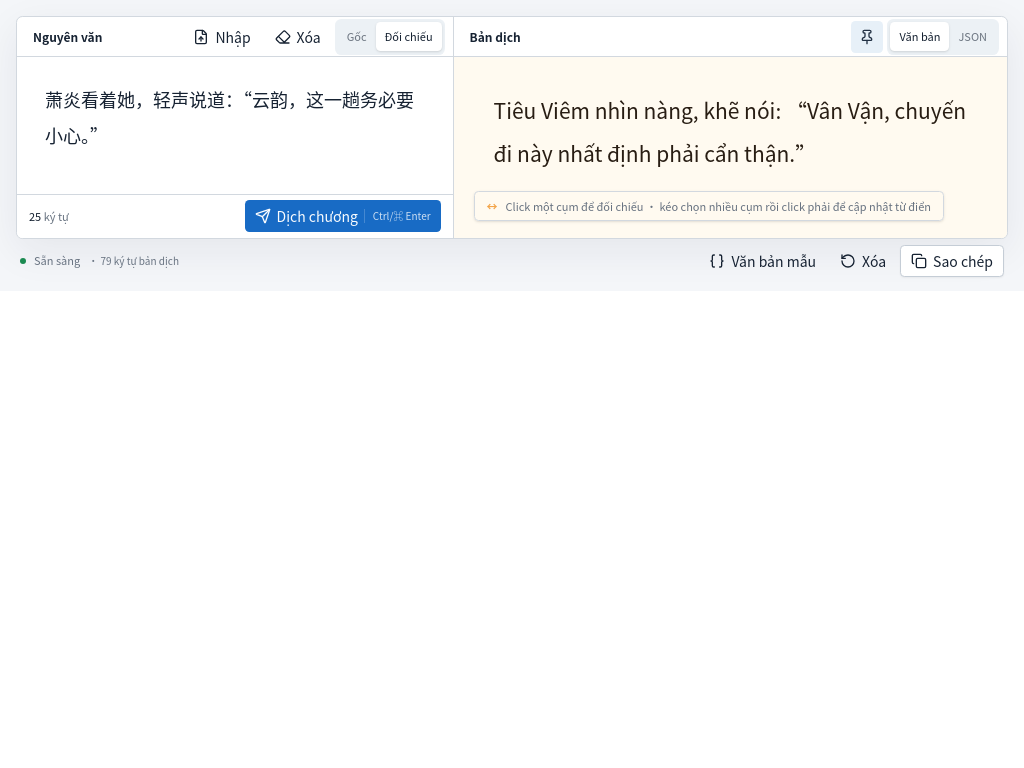
Test: translation range pin › extends the clicked range with Shift and an arrow key
This screenshot has width=1024, height=768.
Click the button with aria-label "Range 1: Tiêu Viêm": (542, 110) [494,95,590,125]
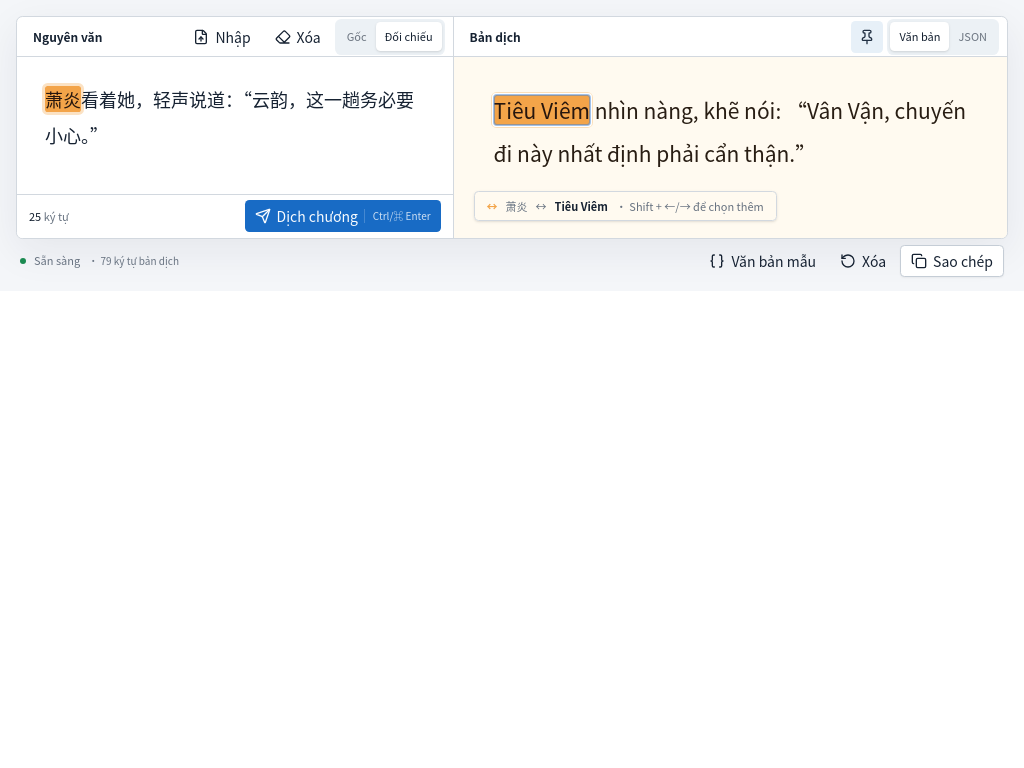
Type keys "{Shift>}{ArrowRight}{/Shift}"
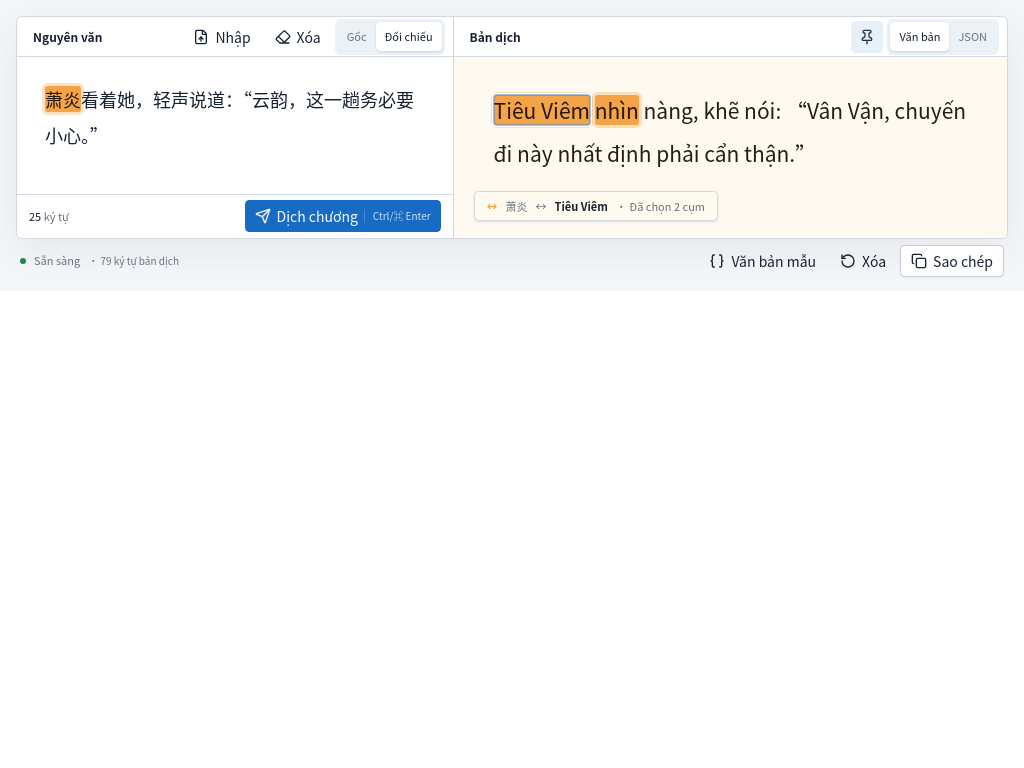
Expected: the button with aria-label "Range 1: Tiêu Viêm" has attribute data-active="true", [494,95,590,125]
Expected: the button with aria-label "Range 2: nhìn" has attribute data-active="true"
Right-click the button with aria-label "Range 2: nhìn": (617, 110) [595,95,639,125]
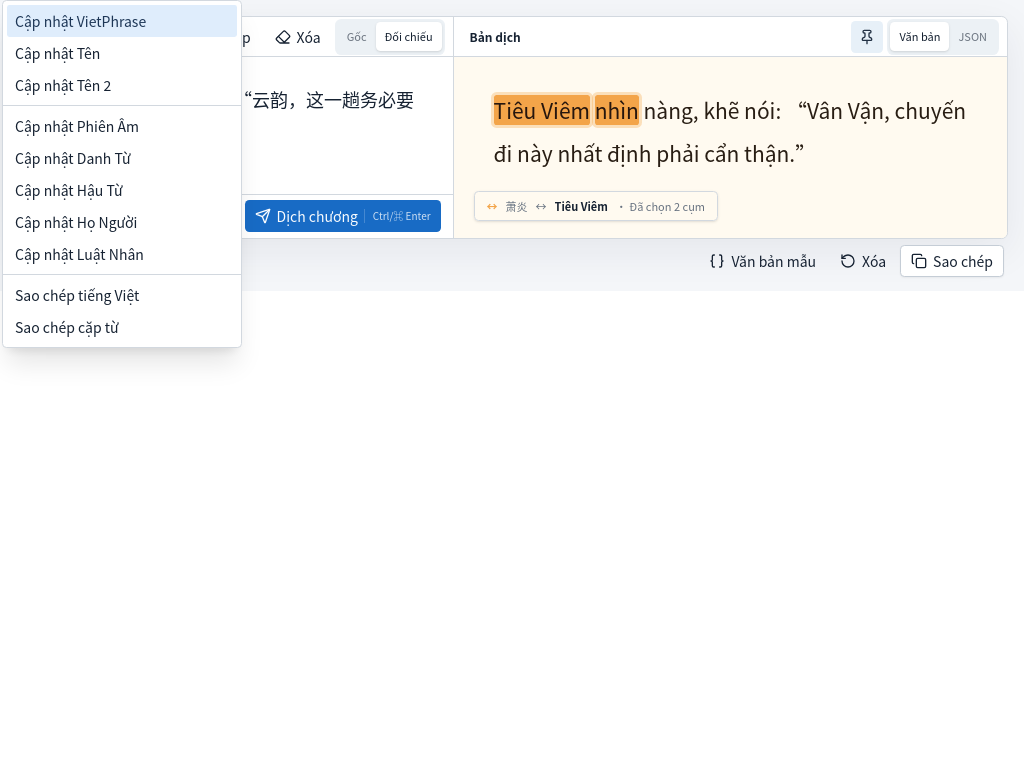
Click the menu item "Cập nhật Tên 2": (63, 85) [15,75,111,95]
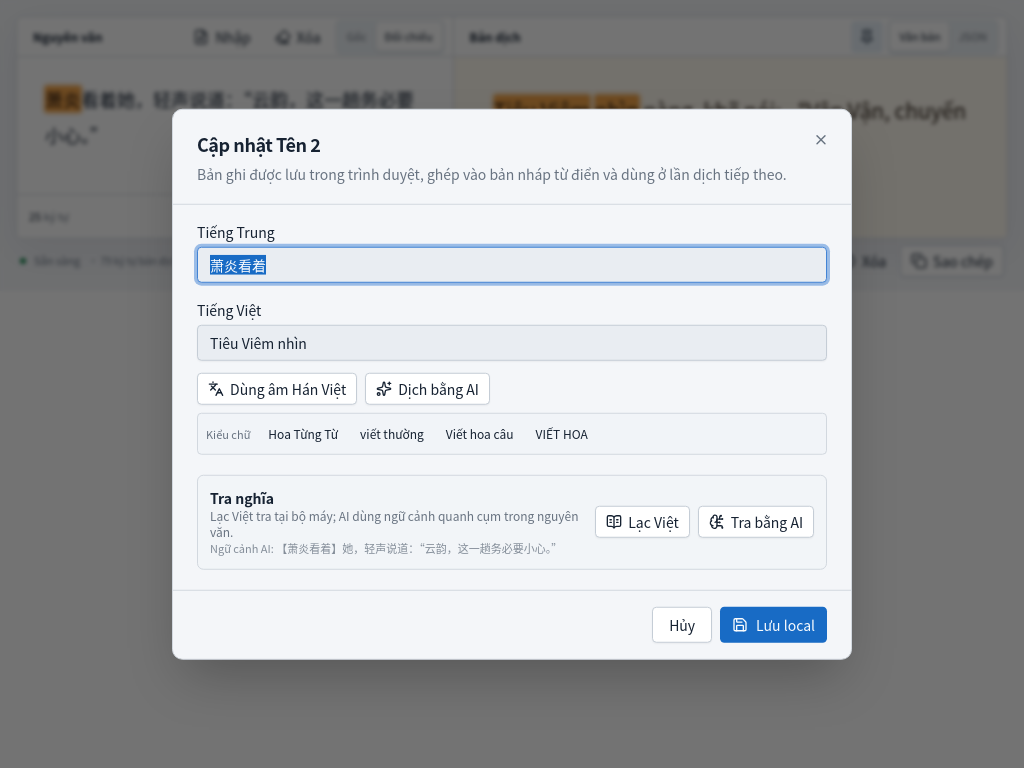
Expected: the field labelled "Tiếng Trung" holds "萧炎看着", [197,247,827,283]
Expected: the field labelled "Tiếng Việt" holds "Tiêu Viêm nhìn", [197,325,827,361]
